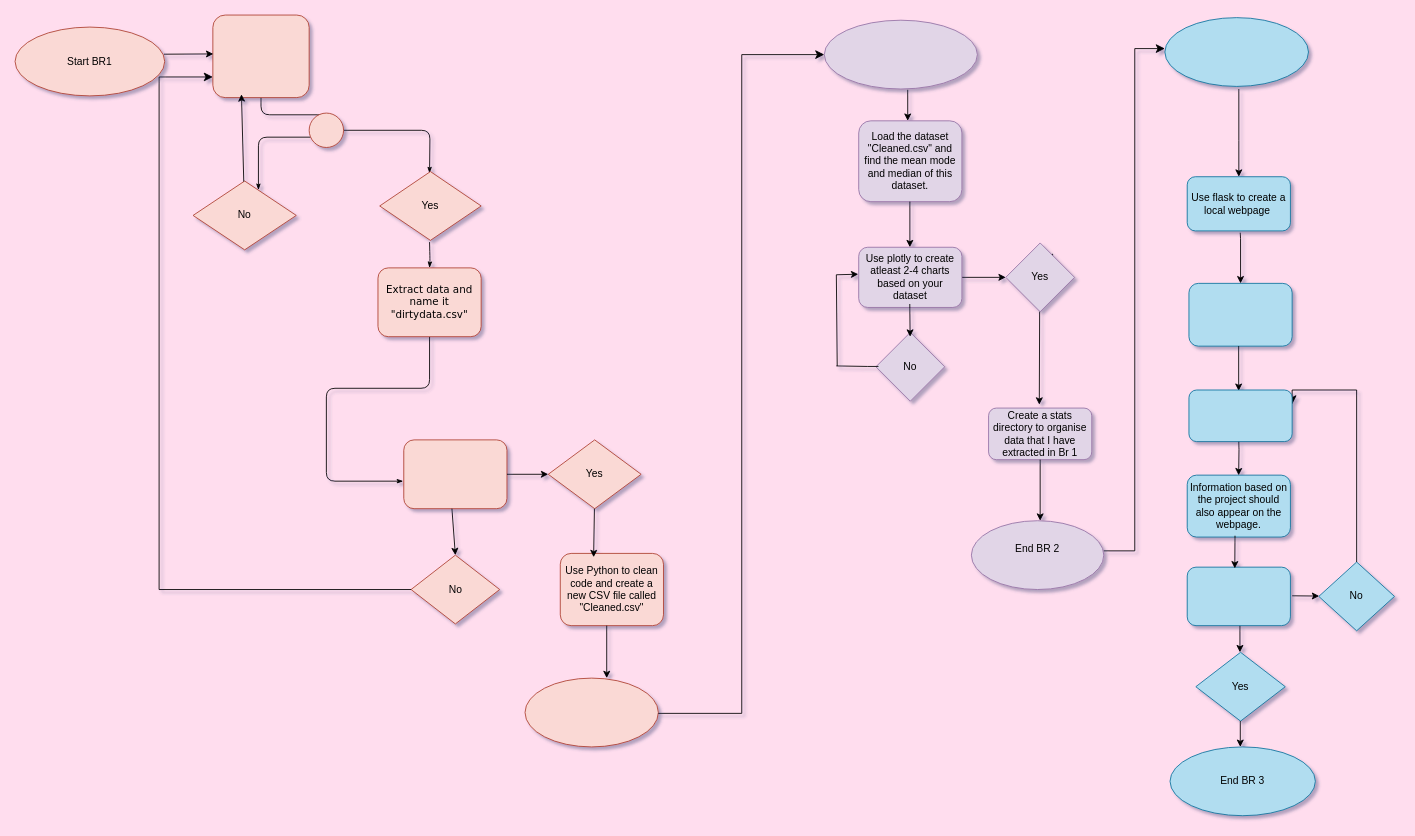
Image size: 1415x836. Some labels were removed from this diagram. Each missing label, with the box of its shape:
Create file called "Index.html and save it to a folder called templates.: (1188, 283, 1292, 346)
Does dataset contain uncleaned data: (403, 439, 507, 509)
End of BR 1: (524, 677, 658, 747)
Graphs created in BR2 should be added to the website.: (1188, 389, 1292, 442)
OR: (308, 112, 344, 147)
Select dataset. Does data set have atleast 4 independent numeric values: (212, 14, 309, 98)
Start BR 2: (823, 19, 977, 89)
Start BR 3: (1164, 17, 1308, 86)
webpage should contain graphs and research obtained.: (1186, 566, 1290, 626)
